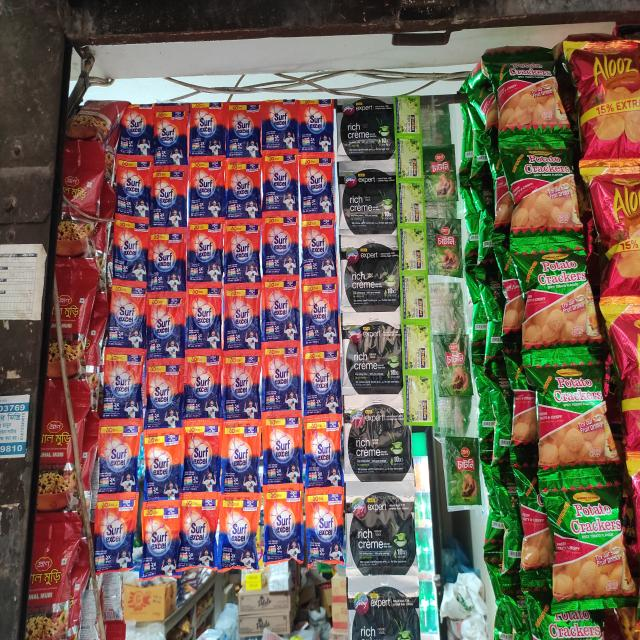ubl: (93, 491, 139, 575), (217, 494, 262, 574), (261, 484, 304, 564), (140, 498, 182, 578), (179, 493, 220, 573), (96, 418, 142, 484), (261, 414, 302, 486), (143, 430, 185, 500), (180, 418, 219, 493), (304, 487, 340, 568), (261, 345, 301, 416), (101, 350, 145, 414), (260, 153, 298, 224), (298, 152, 334, 225), (218, 425, 256, 494), (261, 276, 301, 341), (188, 351, 226, 418), (220, 352, 258, 418), (148, 230, 187, 294), (144, 359, 184, 421), (149, 166, 186, 233), (261, 218, 299, 283), (302, 348, 338, 416), (112, 221, 148, 289), (186, 161, 223, 227), (222, 224, 262, 285), (151, 104, 189, 168), (186, 220, 222, 286), (184, 288, 221, 352), (144, 293, 184, 352), (183, 103, 220, 166), (106, 289, 147, 345), (224, 159, 259, 224), (302, 418, 339, 479), (260, 99, 299, 155), (116, 103, 154, 160), (223, 287, 259, 347), (116, 160, 148, 226), (306, 284, 341, 344), (225, 101, 259, 162), (296, 98, 332, 154), (306, 224, 338, 283)
